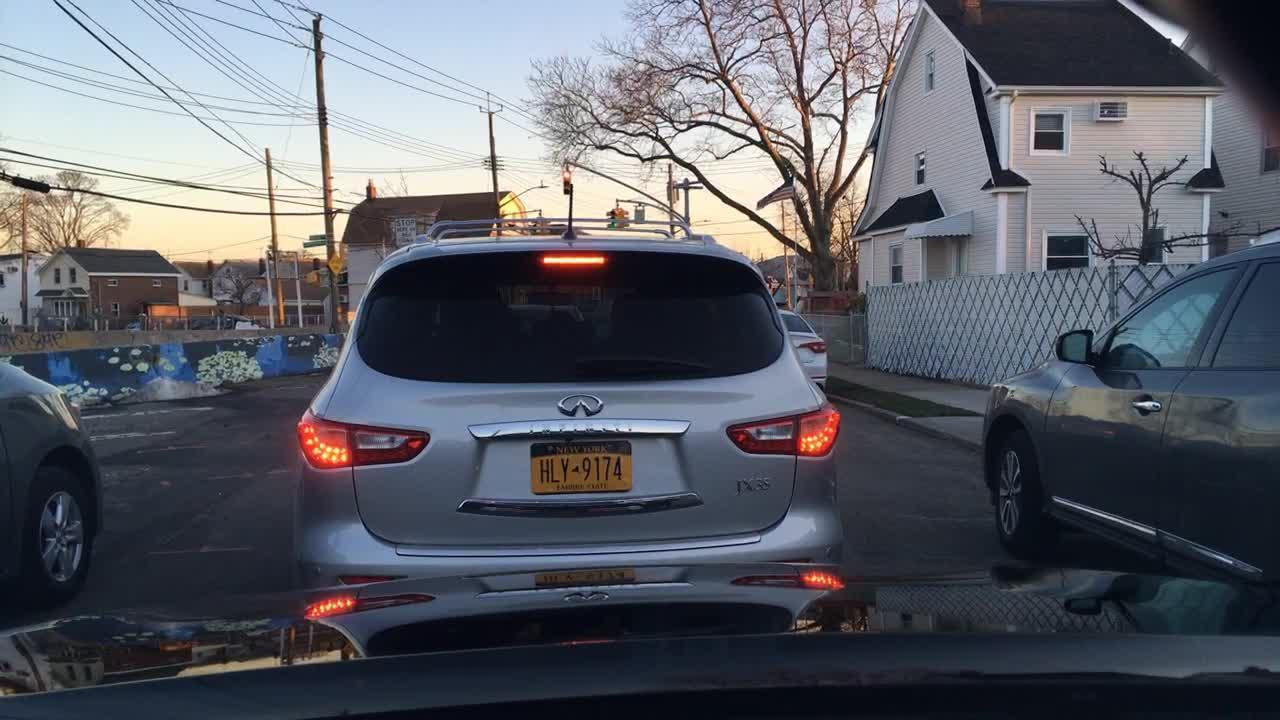Infiniti: (539, 377, 618, 421)
